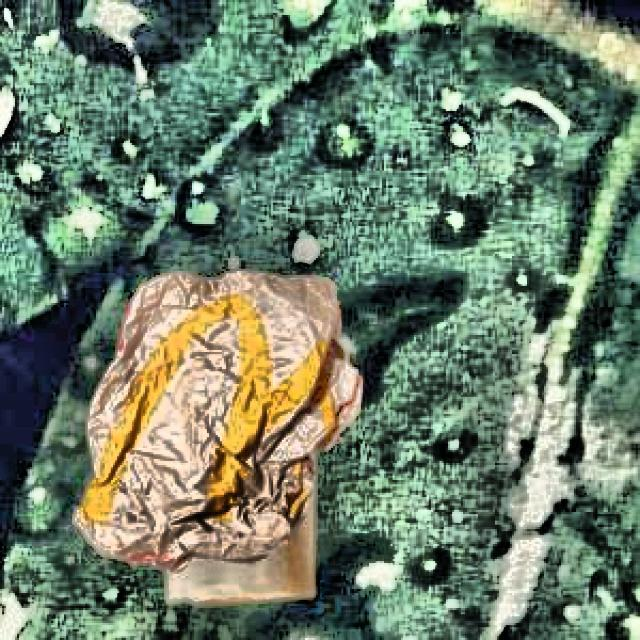Paper-bag: (72, 255, 371, 606)
